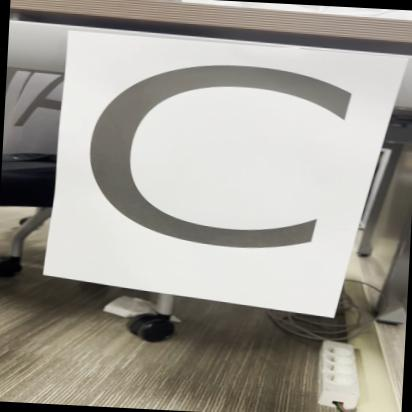seat: (51, 36, 405, 320)
